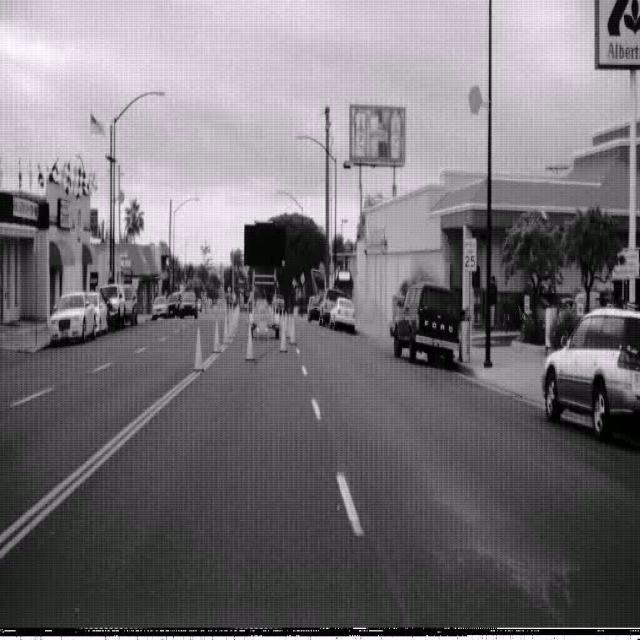speedLimit25: (462, 237, 477, 272)
